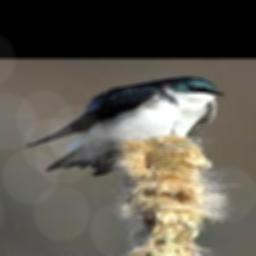Swallow: (26, 76, 230, 175)
